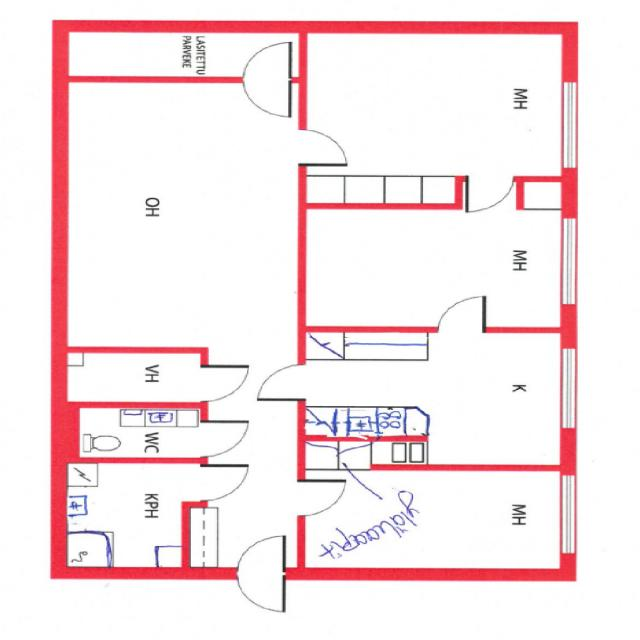door: (238, 534, 284, 582), (238, 570, 284, 617), (298, 481, 354, 516), (252, 365, 308, 400), (244, 42, 291, 83), (244, 77, 291, 118), (200, 366, 254, 401), (438, 291, 484, 332), (199, 422, 254, 456), (467, 176, 512, 217), (299, 130, 353, 164), (200, 466, 254, 500)
